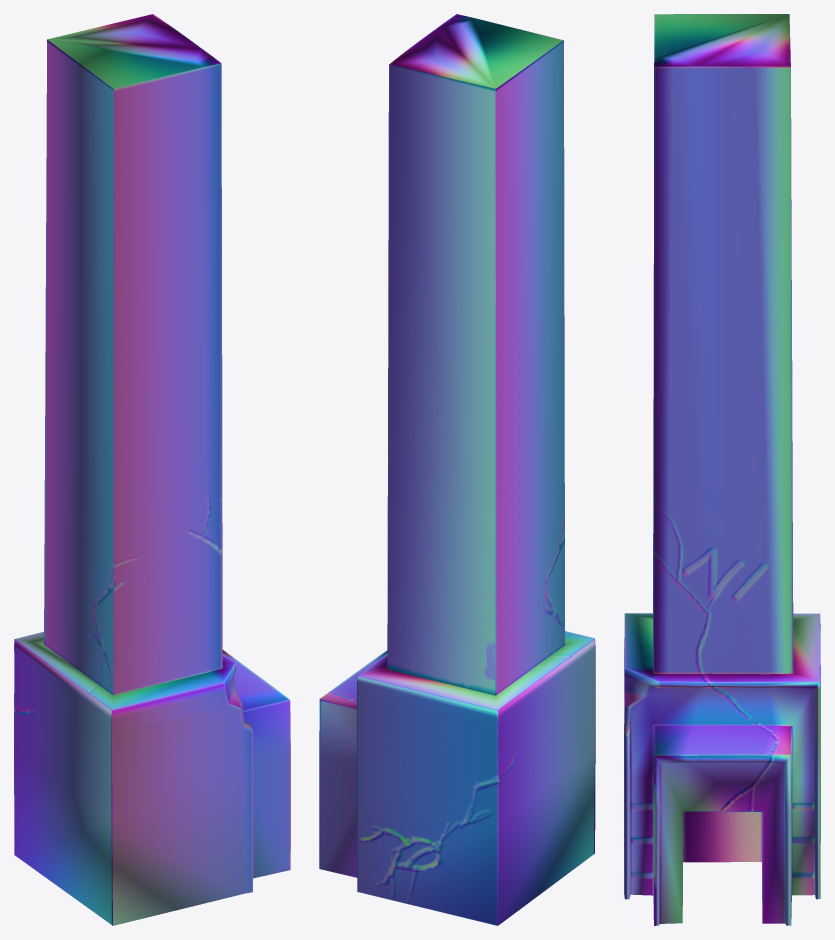
The model's file is RAI-3rdDungeonEntrance.fbx.
3 renders of one model, left to right at view 1: azimuth 30°, elevation 25°; view 2: azimuth 150°, elevation 25°; view 3: azimuth 270°, elevation 25°, orthographic.
Parts seen in each view (by area): view 1: RetopoGroup1; view 2: RetopoGroup1; view 3: RetopoGroup1.
Boxes of the visible parts, x1,y1,x2,y2 form: RetopoGroup1: (14,14,290,925); RetopoGroup1: (319,14,595,925); RetopoGroup1: (624,14,820,925).
Bounding box in the file's own units: 205 × 833 × 180.
